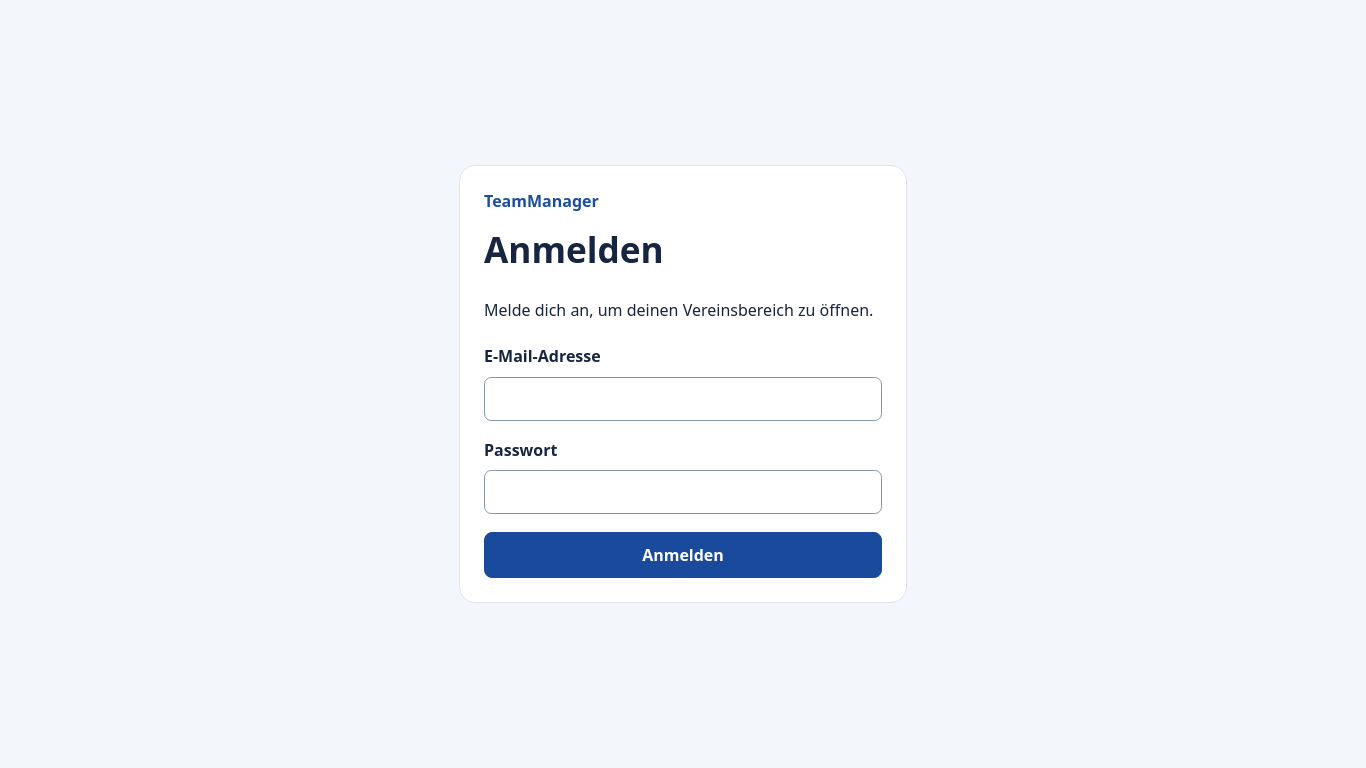
Scenario: application shell › signs in, navigates with role-aware links, and signs out
This screenshot has width=1366, height=768.
In the field labelled "E-Mail-Adresse": (683, 399) 484,377 -> 882,421, type "admin@example.test"
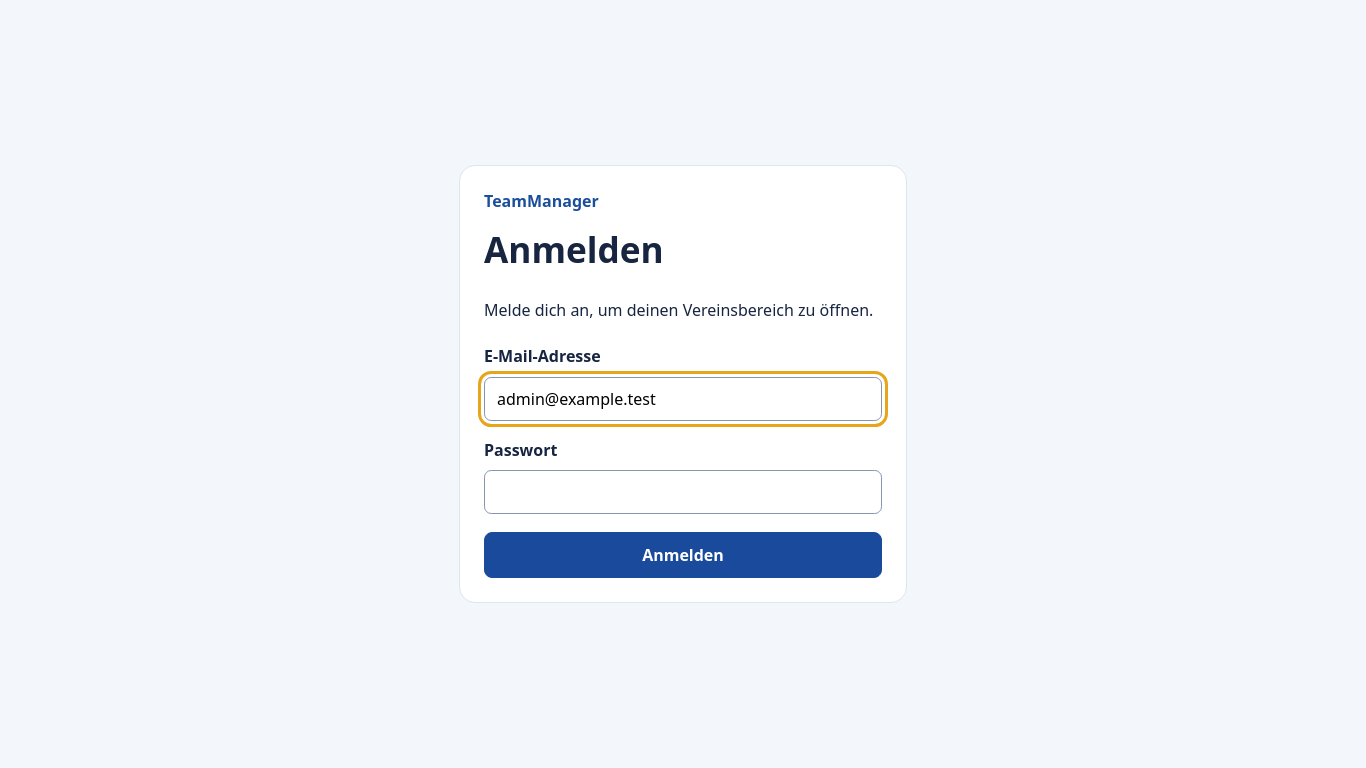
In the password field labelled "Passwort": (683, 492) 484,470 -> 882,514, type "password"
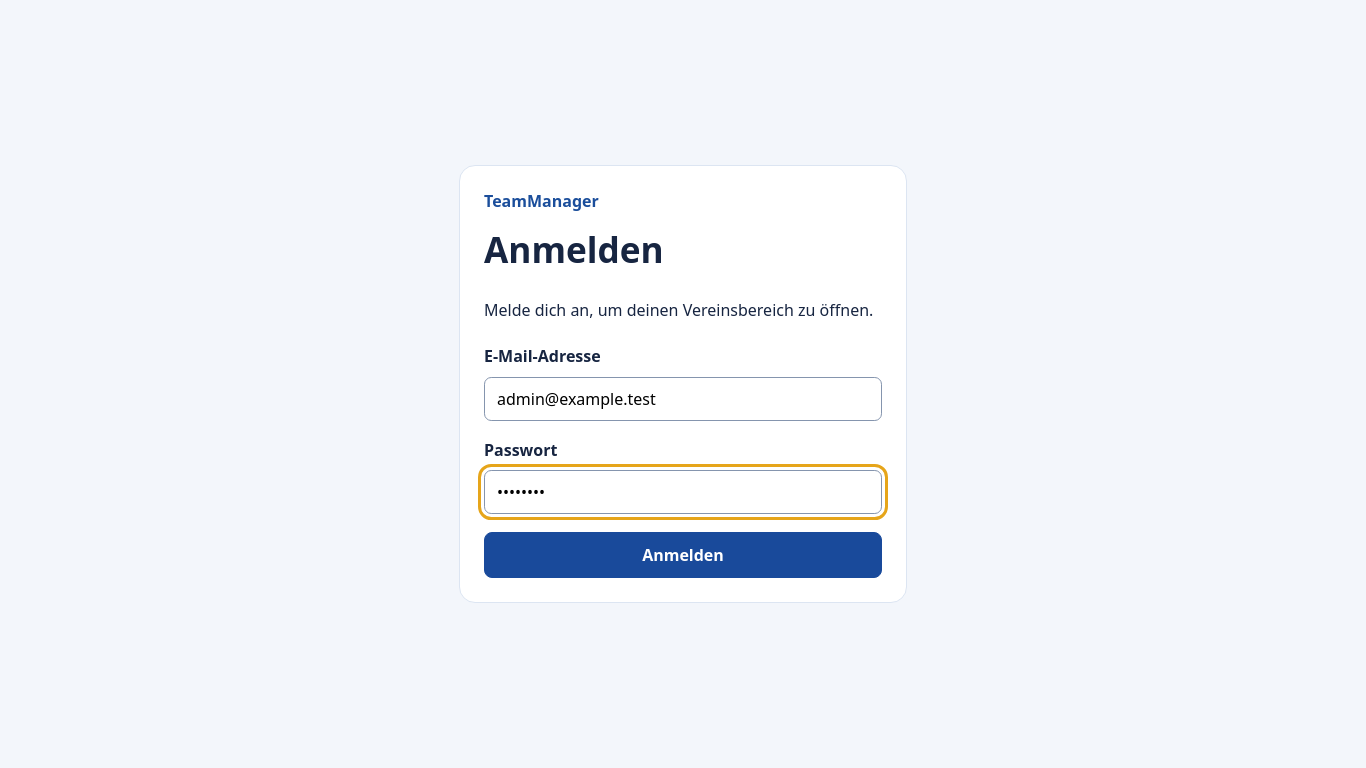
Click the button "Anmelden": (683, 555) 484,532 -> 882,578
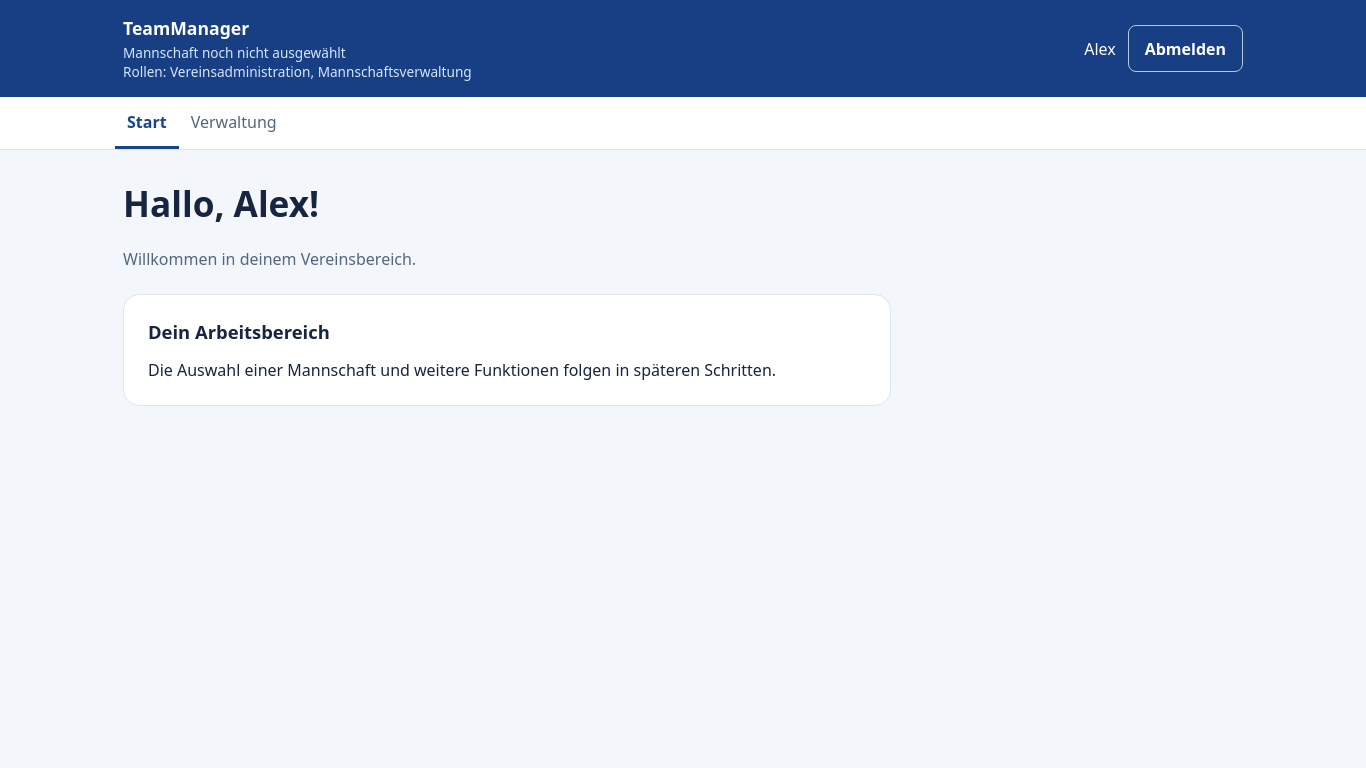
Expected: the heading "Hallo, Alex!" is shown, 123,179 -> 319,227
Click the link "Verwaltung": (234, 122) 191,111 -> 277,133
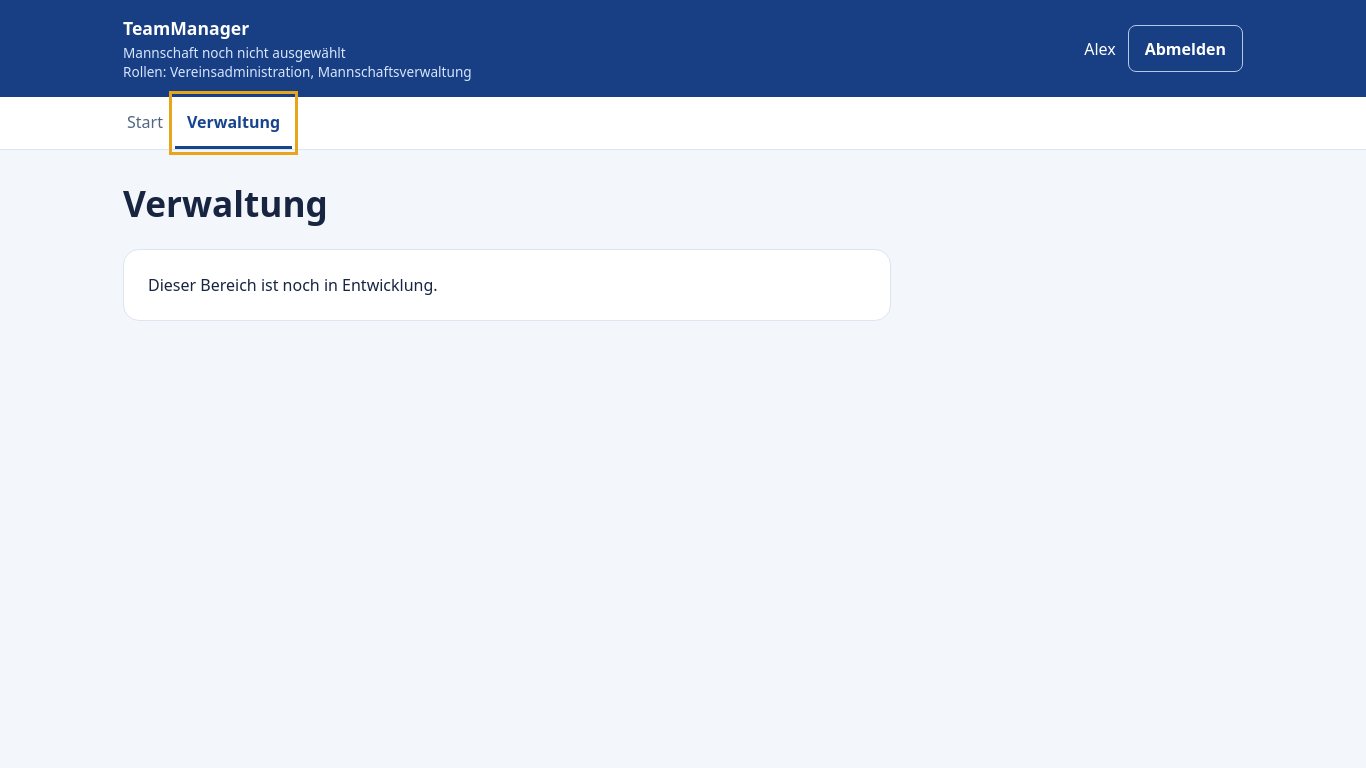
Expected: the heading "Verwaltung" is shown, 123,179 -> 328,227
Click the button "Abmelden": (1185, 49) 1128,25 -> 1243,72
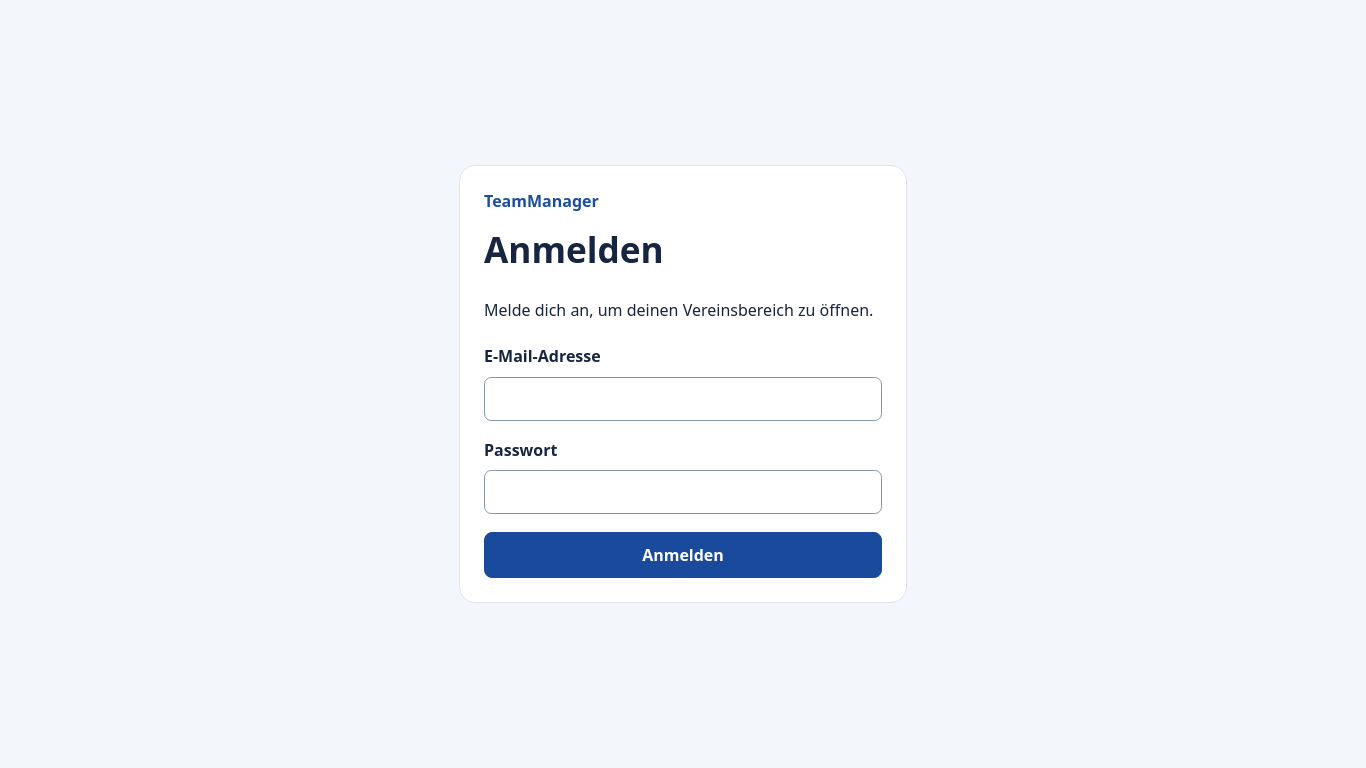
Expected: the heading "Anmelden" is shown, 484,225 -> 664,273
